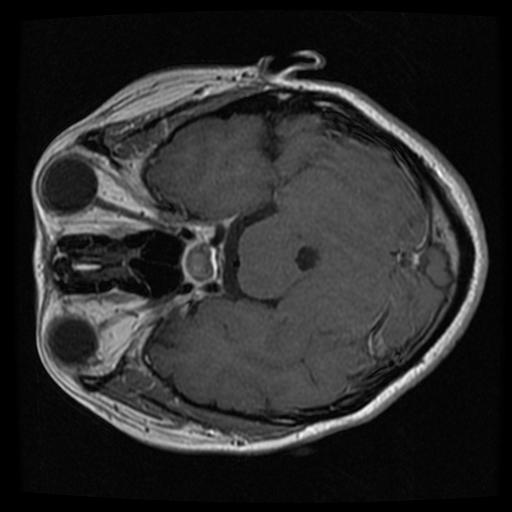pituitary tumour: (182, 240, 215, 285)
